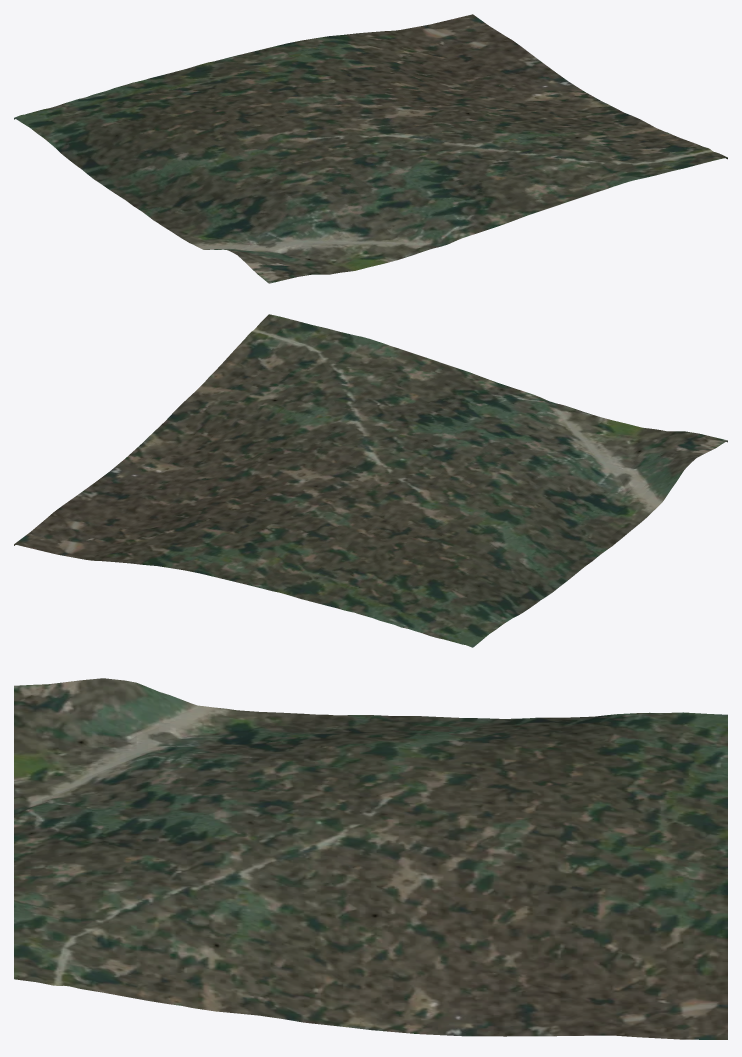
The picture shows the model from 3 angles, top to bottom: view 1: azimuth 30°, elevation 25°; view 2: azimuth 150°, elevation 25°; view 3: azimuth 270°, elevation 25°; orthographic projection. The views are drawn at different scales.
Size of the model in its own units: 250 by 23.75 by 241.
1 material, 1 textured.
